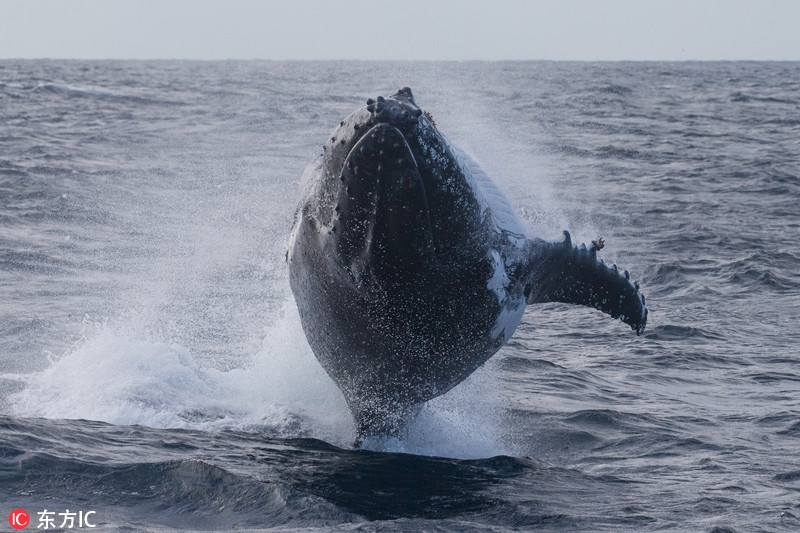fish: (280, 78, 653, 445)
